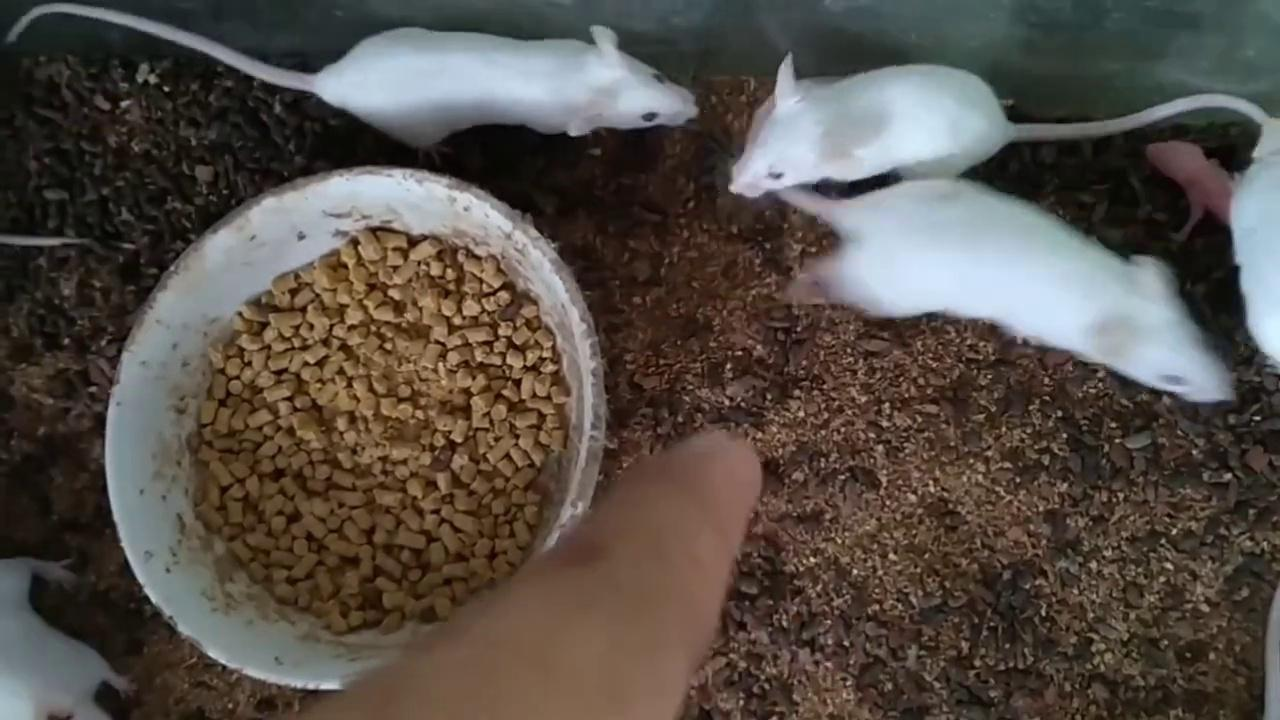rat: (0, 0, 699, 159), (776, 185, 1238, 399), (730, 54, 1269, 197), (0, 553, 143, 720)
